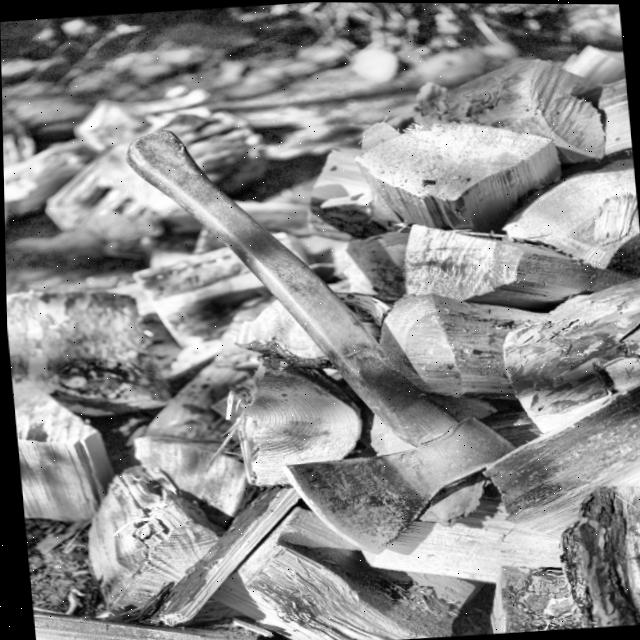kapak: (58, 119, 565, 585)
